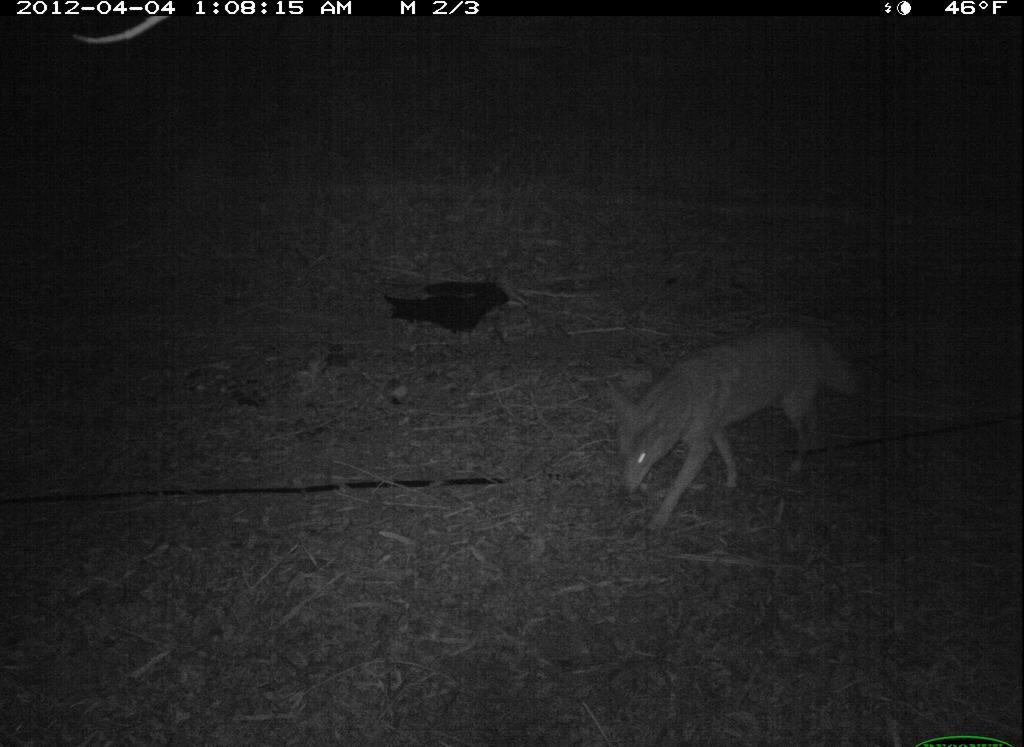coyote: (594, 314, 889, 546)
